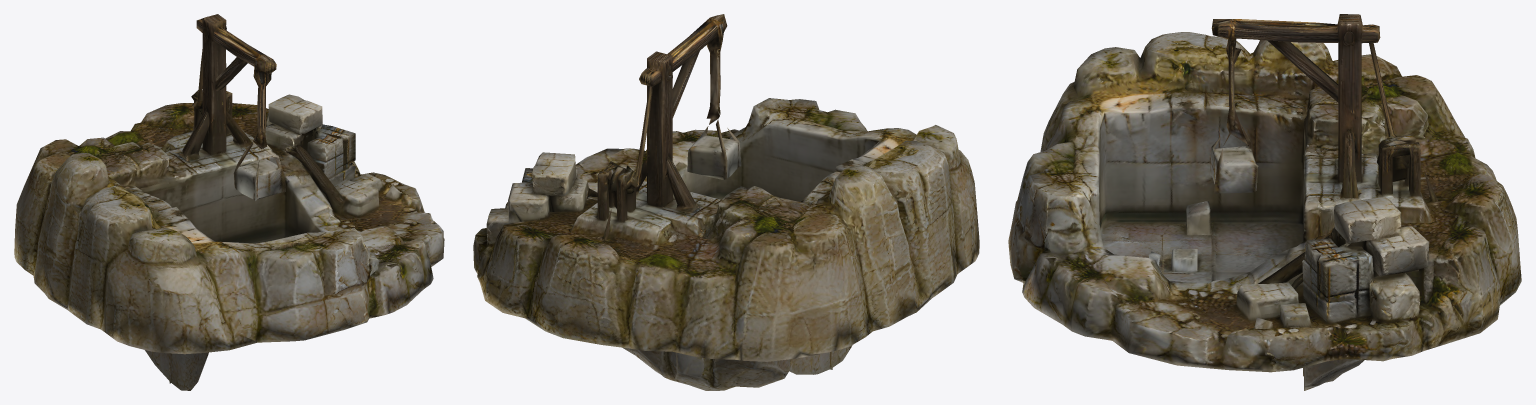
Rendered from quarry.glb.
3 renders of one model, left to right at view 1: azimuth 30°, elevation 25°; view 2: azimuth 150°, elevation 25°; view 3: azimuth 270°, elevation 25°, orthographic. The views are drawn at different scales.
Parts seen in each view (by area): view 1: tripo_node_ee73f418-3030-4a06-9ea9-9645324d0994; view 2: tripo_node_ee73f418-3030-4a06-9ea9-9645324d0994; view 3: tripo_node_ee73f418-3030-4a06-9ea9-9645324d0994.
Part boxes in pixels (left/top/right/bottom): tripo_node_ee73f418-3030-4a06-9ea9-9645324d0994: left=14, top=14, right=444, bottom=390; tripo_node_ee73f418-3030-4a06-9ea9-9645324d0994: left=473, top=14, right=979, bottom=390; tripo_node_ee73f418-3030-4a06-9ea9-9645324d0994: left=1008, top=14, right=1521, bottom=390.
Bounding box in the file's own units: 1 × 0.7953 × 0.9885.
1 material, 1 textured.
